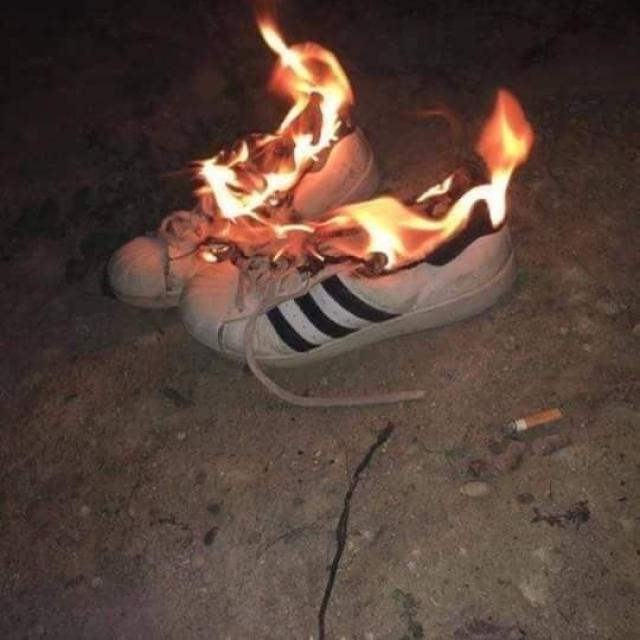fire: (274, 87, 534, 272), (192, 2, 354, 219)
